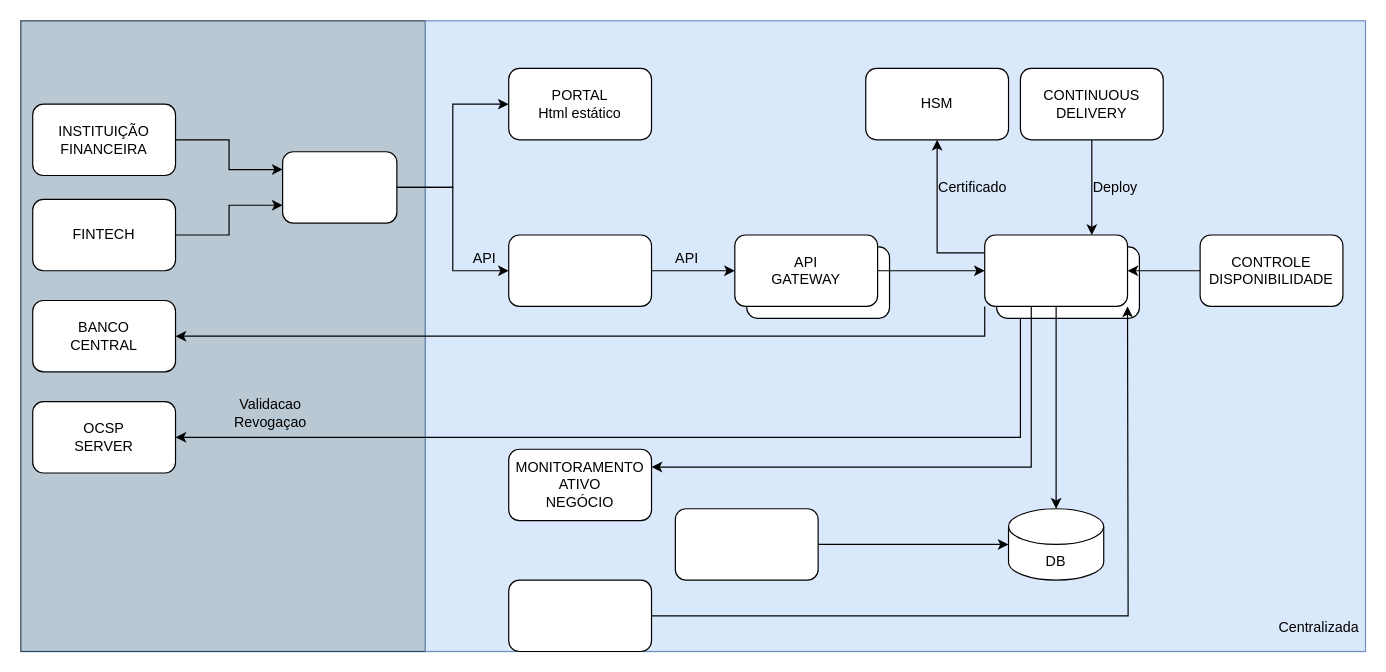
The diagram is 1386 pixels wide and 672 high, and some of its shapes have lost their labels. Each missing label, with the box of its shape:
ADMINISTRAÇÃO/ OPERAÇÃO: (674, 508, 818, 580)
LOAD BALANCE: (508, 234, 652, 306)
MONITORAMENTO INFRA-ESTRUTURA: (508, 579, 652, 652)
SERVIÇO PROCESSAMENTO: (984, 234, 1128, 306)
WAF: (281, 151, 397, 223)
